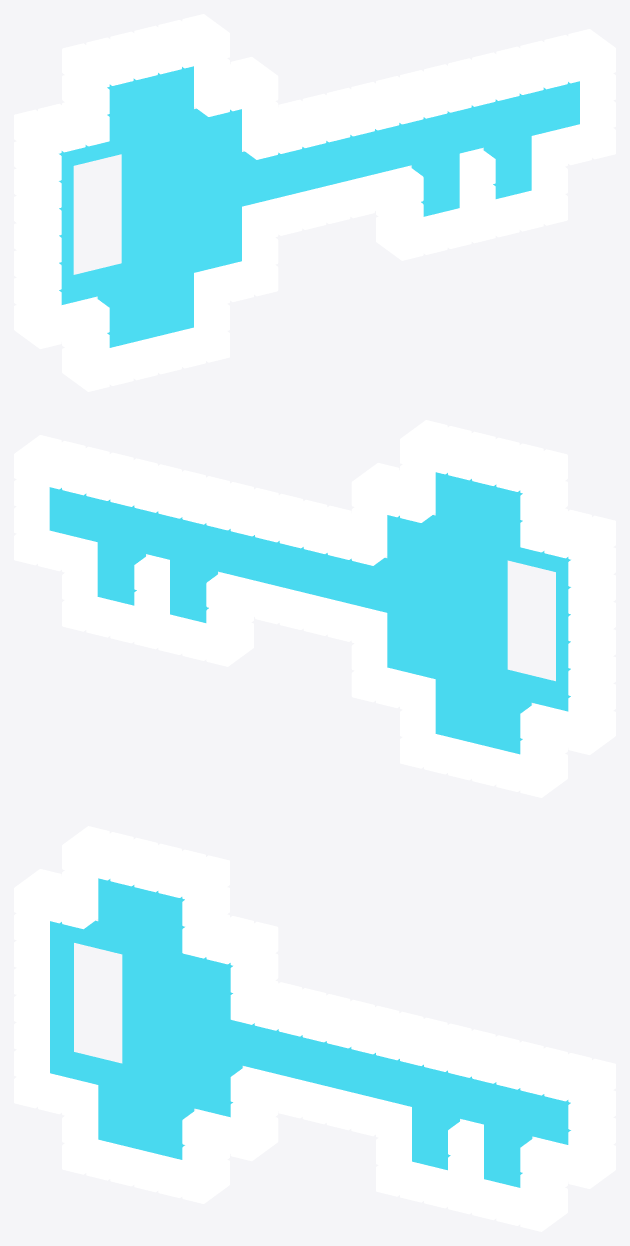
The model's file is alpha blend.glb.
3 views of the same model, one above another, from view 1: azimuth 30°, elevation 25°; view 2: azimuth 150°, elevation 25°; view 3: azimuth 330°, elevation 25° (orthographic).
Visible parts, largest first — view 1: Plane.002, Plane.001; view 2: Plane.002, Plane.001; view 3: Plane.002, Plane.001.
Part boxes in pixels (left/top/right/bottom): Plane.002: left=14, top=14, right=615, bottom=391; Plane.001: left=59, top=66, right=579, bottom=347; Plane.002: left=14, top=420, right=615, bottom=797; Plane.001: left=49, top=472, right=570, bottom=754; Plane.002: left=14, top=826, right=615, bottom=1231; Plane.001: left=50, top=878, right=570, bottom=1187.
Bounding box in the file's own units: 9.21 × 4.97 × 0.73.
